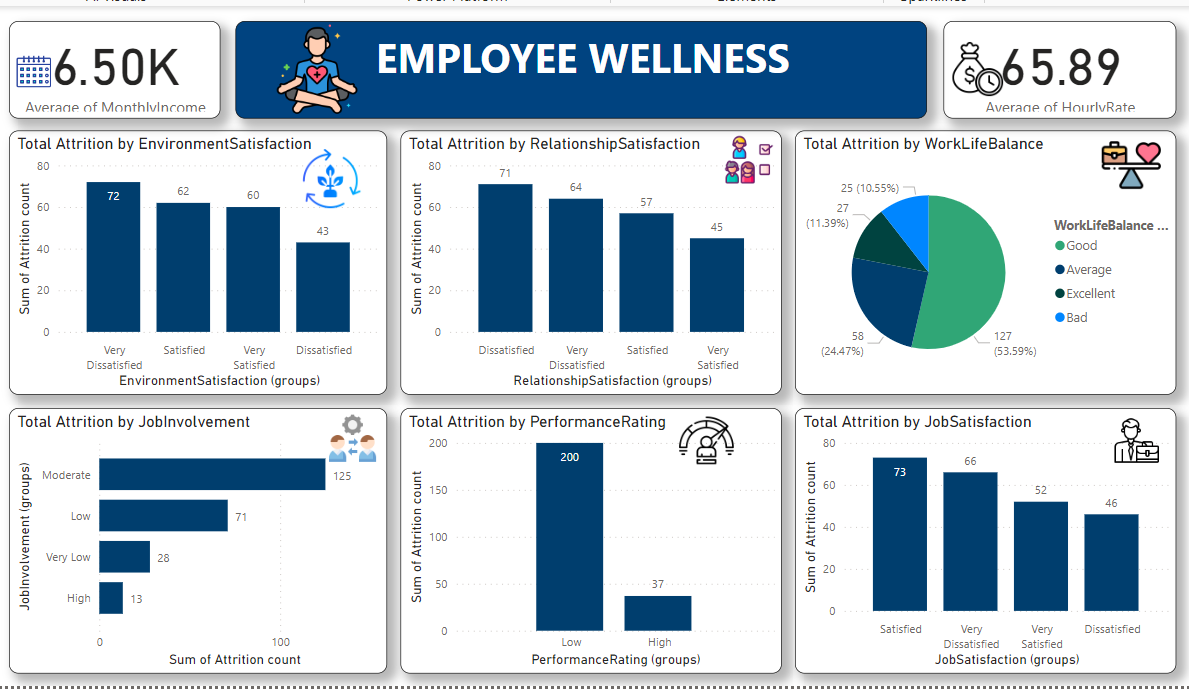

The page's visual inventory and layout, read from the dashboard file:
{"tool":"powerbi","page":{"name":"Page 4","canvas":[1280,720],"ordinal":3},"visuals":[{"type":"columnChart","title":"Total Attrition by EnvironmentSatisfaction ","fields":{"Category":["HR-Employee-Attrition.EnvironmentSatisfaction (groups)"],"Y":["Sum(HR-Employee-Attrition.Attrition count)"]},"box":[19.1,131.9,400.5,279.7],"z":0},{"type":"barChart","title":"Total Attrition by JobInvolvement ","fields":{"Category":["HR-Employee-Attrition.JobInvolvement (groups)"],"Y":["Sum(HR-Employee-Attrition.Attrition count)"]},"box":[19.1,426,400.5,281.3],"z":1},{"type":"columnChart","title":"Total Attrition by RelationshipSatisfaction ","fields":{"Category":["HR-Employee-Attrition.RelationshipSatisfaction (groups)"],"Y":["Sum(HR-Employee-Attrition.Attrition count)"]},"box":[433.9,131.9,403.7,279.7],"z":2},{"type":"columnChart","title":"Total Attrition by PerformanceRating ","fields":{"Category":["HR-Employee-Attrition.PerformanceRating (groups)"],"Y":["Sum(HR-Employee-Attrition.Attrition count)"]},"box":[433.9,426,403.7,281.3],"z":3},{"type":"pieChart","title":"Total Attrition by WorkLifeBalance ","fields":{"Category":["HR-Employee-Attrition.WorkLifeBalance (groups)"],"Y":["Sum(HR-Employee-Attrition.Attrition count)"]},"box":[851.9,131.9,403.7,279.7],"z":4},{"type":"columnChart","title":"Total Attrition by JobSatisfaction ","fields":{"Y":["Sum(HR-Employee-Attrition.Attrition count)"],"Category":["HR-Employee-Attrition.JobSatisfaction (groups)"]},"box":[851.9,426,403.7,281.3],"z":5},{"type":"card","fields":{"Values":["Avg(HR-Employee-Attrition.HourlyRate)"]},"box":[1009.3,15.9,246.4,103.3],"z":6},{"type":"card","fields":{"Values":["Avg(HR-Employee-Attrition.MonthlyIncome)"]},"box":[19.1,15.9,224.1,103.3],"z":7},{"type":"textbox","box":[259.1,15.9,732.7,103.3],"z":8},{"type":"image","box":[19.1,33.4,52.5,69.9],"z":9},{"type":"image","box":[290.9,14.3,109.7,104.9],"z":10},{"type":"image","box":[1160.3,131.9,95.4,73.1],"z":11},{"type":"image","box":[321.1,146.2,79.5,73.1],"z":12},{"type":"image","box":[731.1,426,120.8,68.3],"z":13},{"type":"image","box":[1009.3,31.8,73.1,69.9],"z":14},{"type":"image","box":[758.1,131.9,90.6,62],"z":15},{"type":"image","box":[1173,430.7,82.6,58.8],"z":16},{"type":"image","box":[346.5,426,73.1,63.6],"z":17}]}

Visuals, with their boxes in screenshot pixels (x1, y1, x2, y2), scaled from the page's 1280x720 canvas onto the 1189x689 screenshot:
"Total Attrition by EnvironmentSatisfaction " columnChart: 18, 126, 390, 394
"Total Attrition by JobInvolvement " barChart: 18, 408, 390, 677
"Total Attrition by RelationshipSatisfaction " columnChart: 403, 126, 778, 394
"Total Attrition by PerformanceRating " columnChart: 403, 408, 778, 677
"Total Attrition by WorkLifeBalance " pieChart: 791, 126, 1166, 394
"Total Attrition by JobSatisfaction " columnChart: 791, 408, 1166, 677
card - Avg(HR-Employee-Attrition.HourlyRate): 938, 15, 1166, 114
card - Avg(HR-Employee-Attrition.MonthlyIncome): 18, 15, 226, 114
textbox: 241, 15, 921, 114
image: 18, 32, 67, 99
image: 270, 14, 372, 114
image: 1078, 126, 1166, 196
image: 298, 140, 372, 210
image: 679, 408, 791, 473
image: 938, 30, 1005, 97
image: 704, 126, 788, 186
image: 1090, 412, 1166, 468
image: 322, 408, 390, 469
